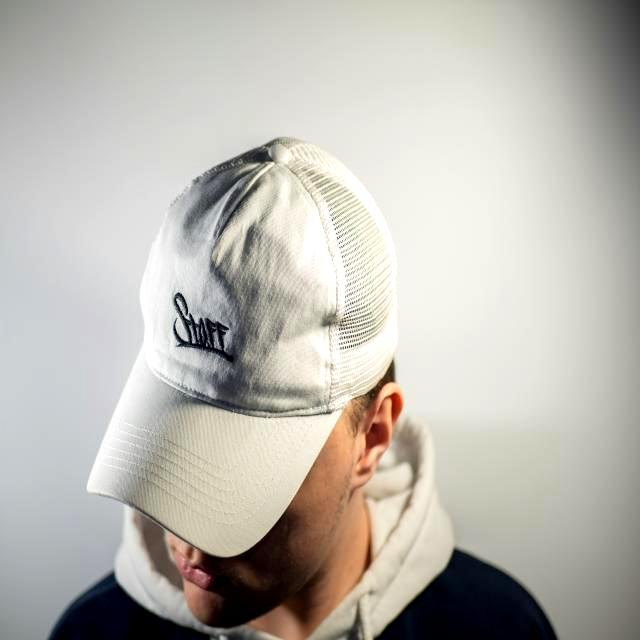no_hard_hat: (88, 138, 397, 556)
person: (50, 138, 556, 640)
